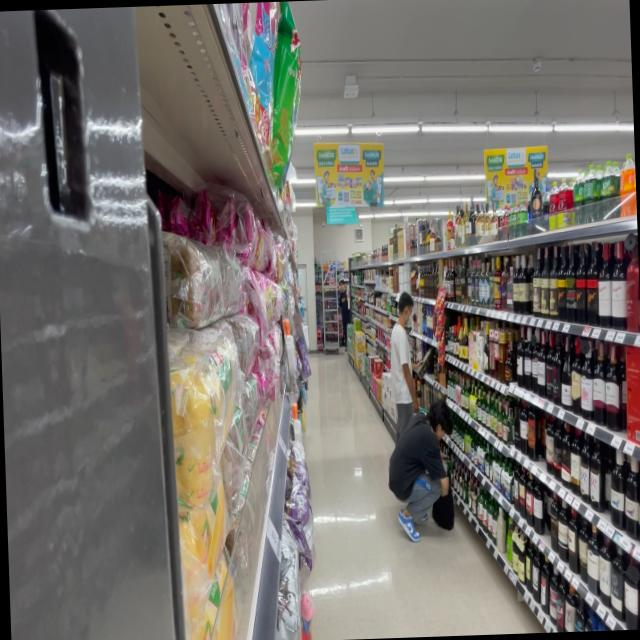shoplifting: (384, 394, 458, 542)
